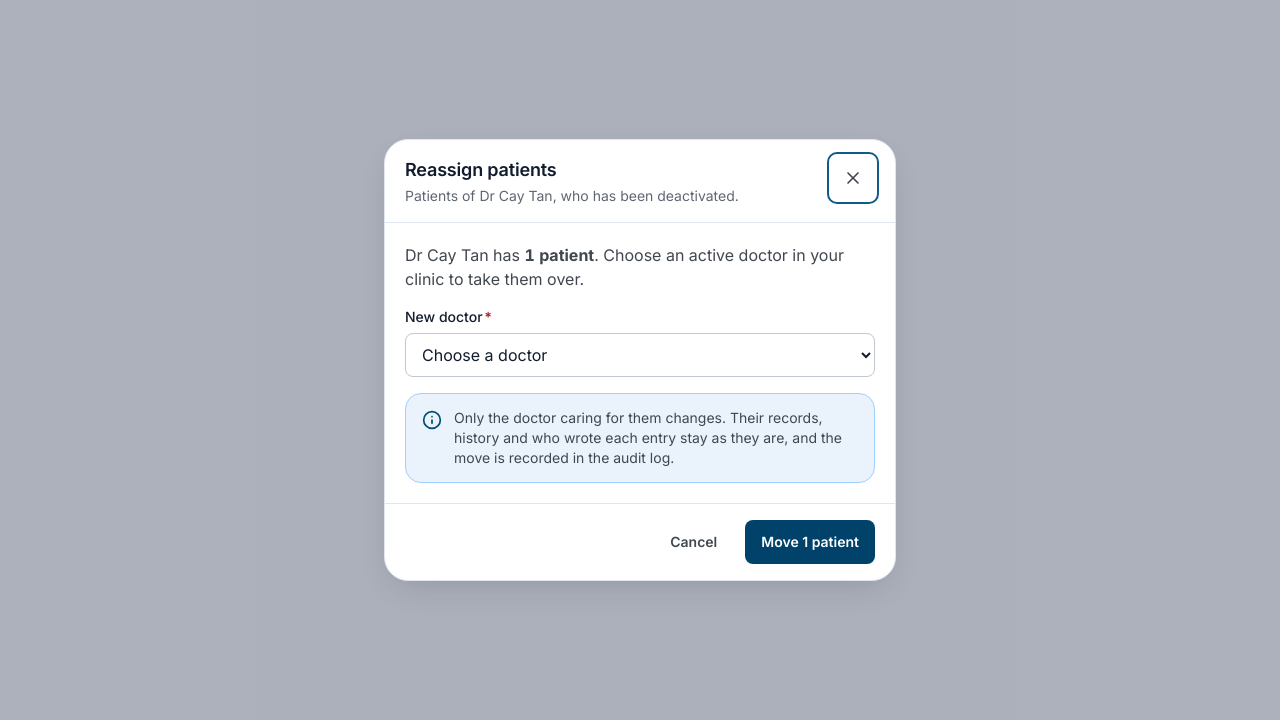
Scenario: reassigning a deactivated doctor’s patients › reports a refused move and keeps the choice, so it can be tried again
Expected: the button "Move 1 patient" is shown, [745,520,875,564]
Step 1. Select "Dr Alan Cruz" in the dropdown labelled "New doctor*" → (640, 355), box [405,333,875,377]
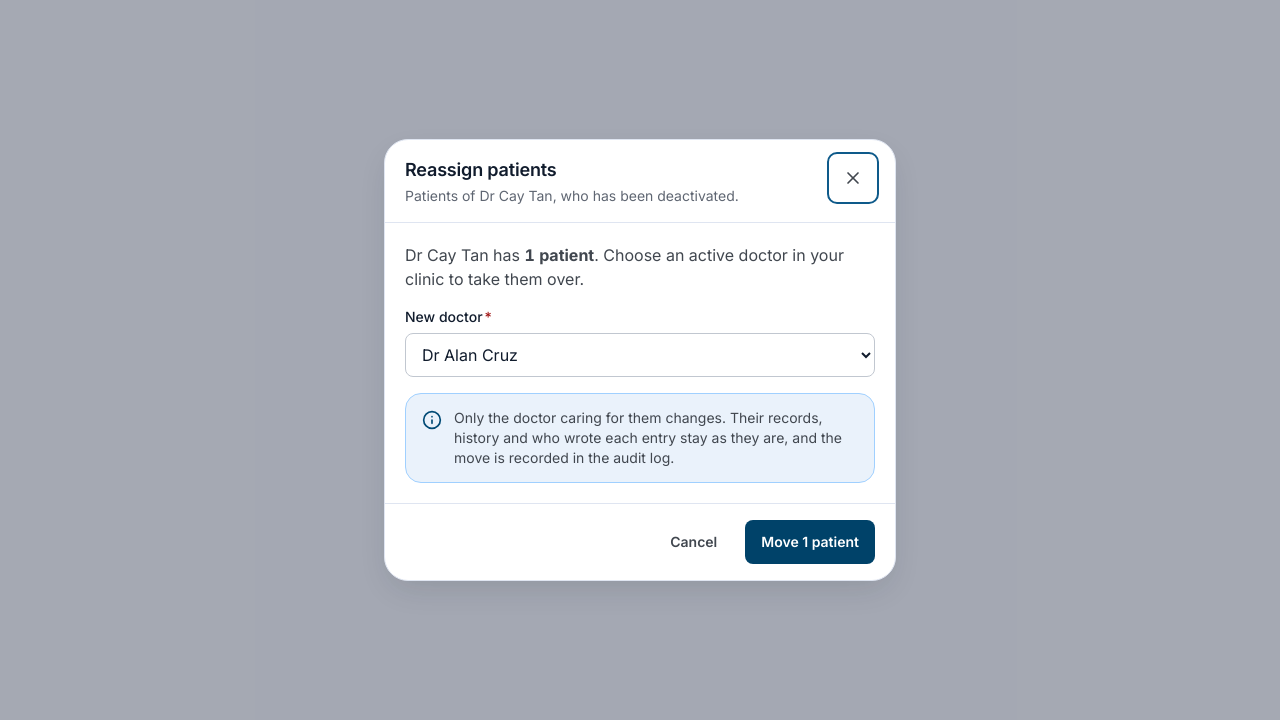
Step 2. Click the button "Move 1 patient" → (810, 542), box [745,520,875,564]
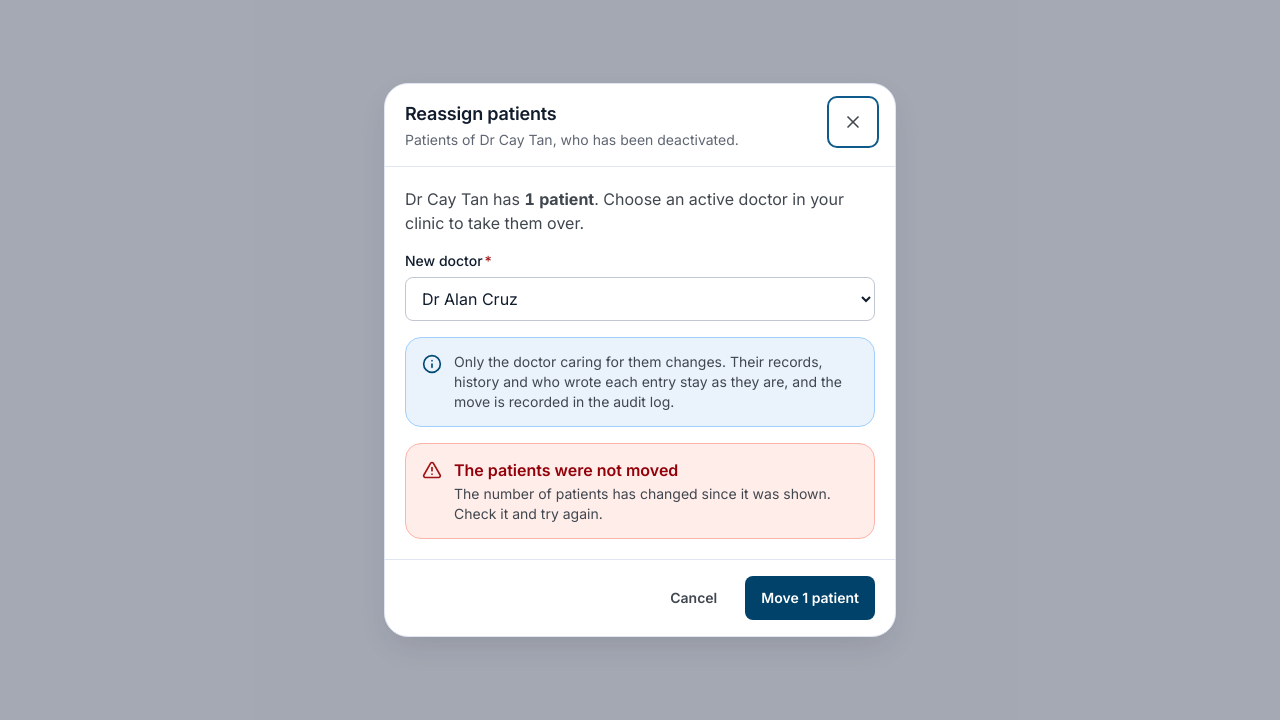
Expected: the button "Move 1 patient" is shown, [745,576,875,620]
Expected: the text "The patients were not moved" is shown, [454,460,678,480]
Expected: the text "The number of patients has changed since it was shown. Check it and try again." is shown, [454,484,858,524]
